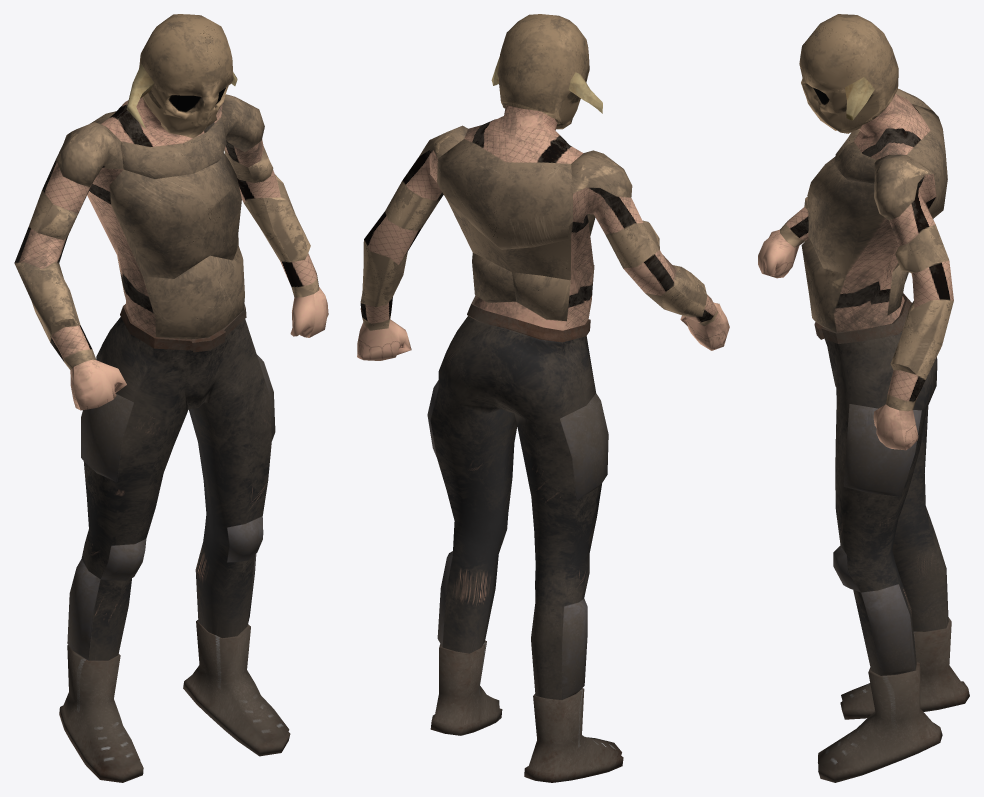
The model's file is Anim_cogerobjeto_npc1.0037.obj.
The picture shows the model from 3 angles, left to right: view 1: azimuth 30°, elevation 25°; view 2: azimuth 150°, elevation 25°; view 3: azimuth 270°, elevation 25°; orthographic projection. The views are drawn at different scales.
Visible parts, largest first — view 1: NPC2; view 2: NPC2; view 3: NPC2.
Boxes of the visible parts, box(x1,y1,x2,y2) form: NPC2: box(14, 14, 328, 782); NPC2: box(357, 14, 729, 782); NPC2: box(758, 14, 969, 782).
Size of the model in its own units: 4.33 by 9.67 by 2.57.
